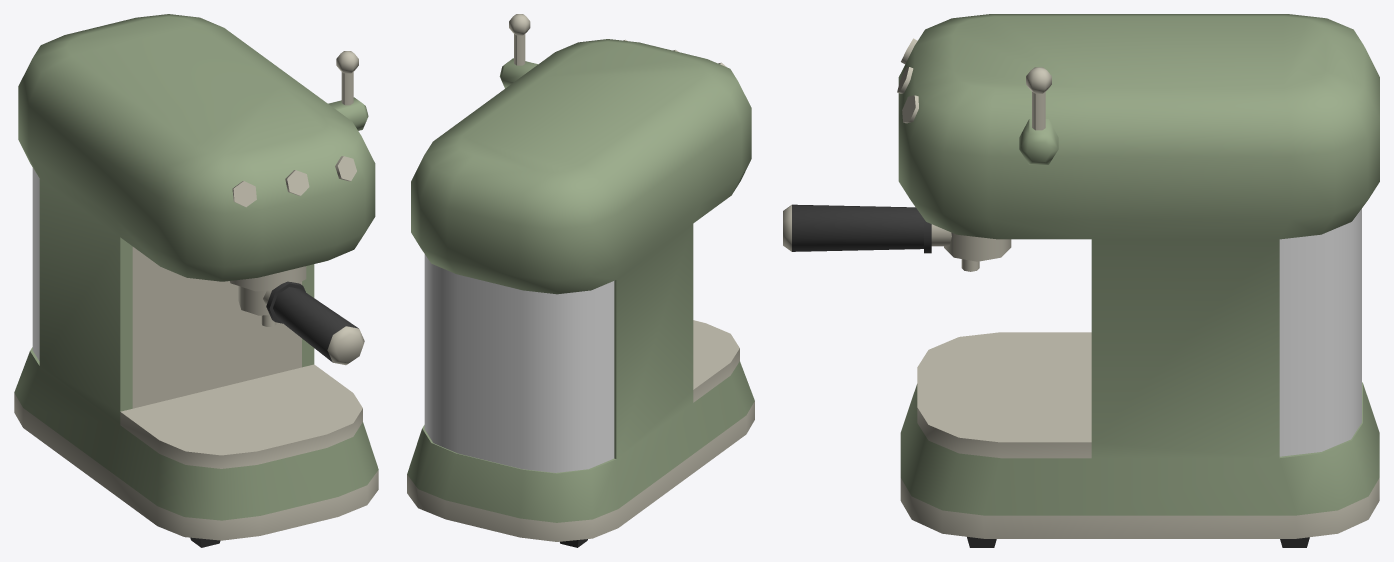
The model's file is CoffeeMachine_01.fbx.
3 renders of one model, left to right at view 1: azimuth 30°, elevation 25°; view 2: azimuth 150°, elevation 25°; view 3: azimuth 270°, elevation 25°, orthographic. The views are drawn at different scales.
Parts seen in each view (by area): view 1: CoffeeMachine_01; view 2: CoffeeMachine_01; view 3: CoffeeMachine_01.
Boxes of the visible parts, x1,y1,x2,y2 form: CoffeeMachine_01: [14, 14, 378, 547]; CoffeeMachine_01: [407, 14, 754, 547]; CoffeeMachine_01: [783, 14, 1379, 547].
Size of the model in its own units: 0.2263 by 0.4067 by 0.4376.
